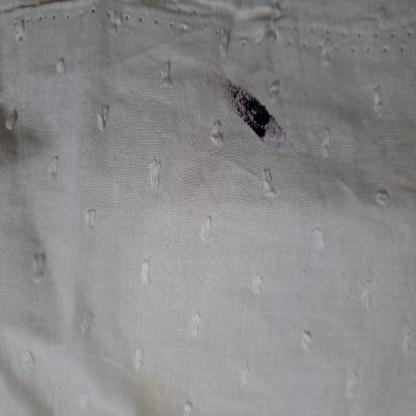spot: (132, 375, 194, 416), (259, 102, 291, 152), (221, 72, 242, 114), (243, 89, 261, 136)
